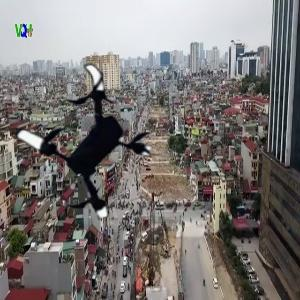drone: (3, 61, 163, 221)
